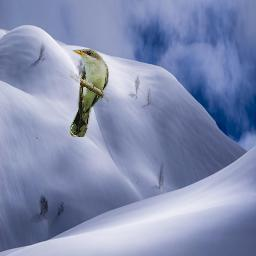Cuckoo: (70, 49, 109, 137)
